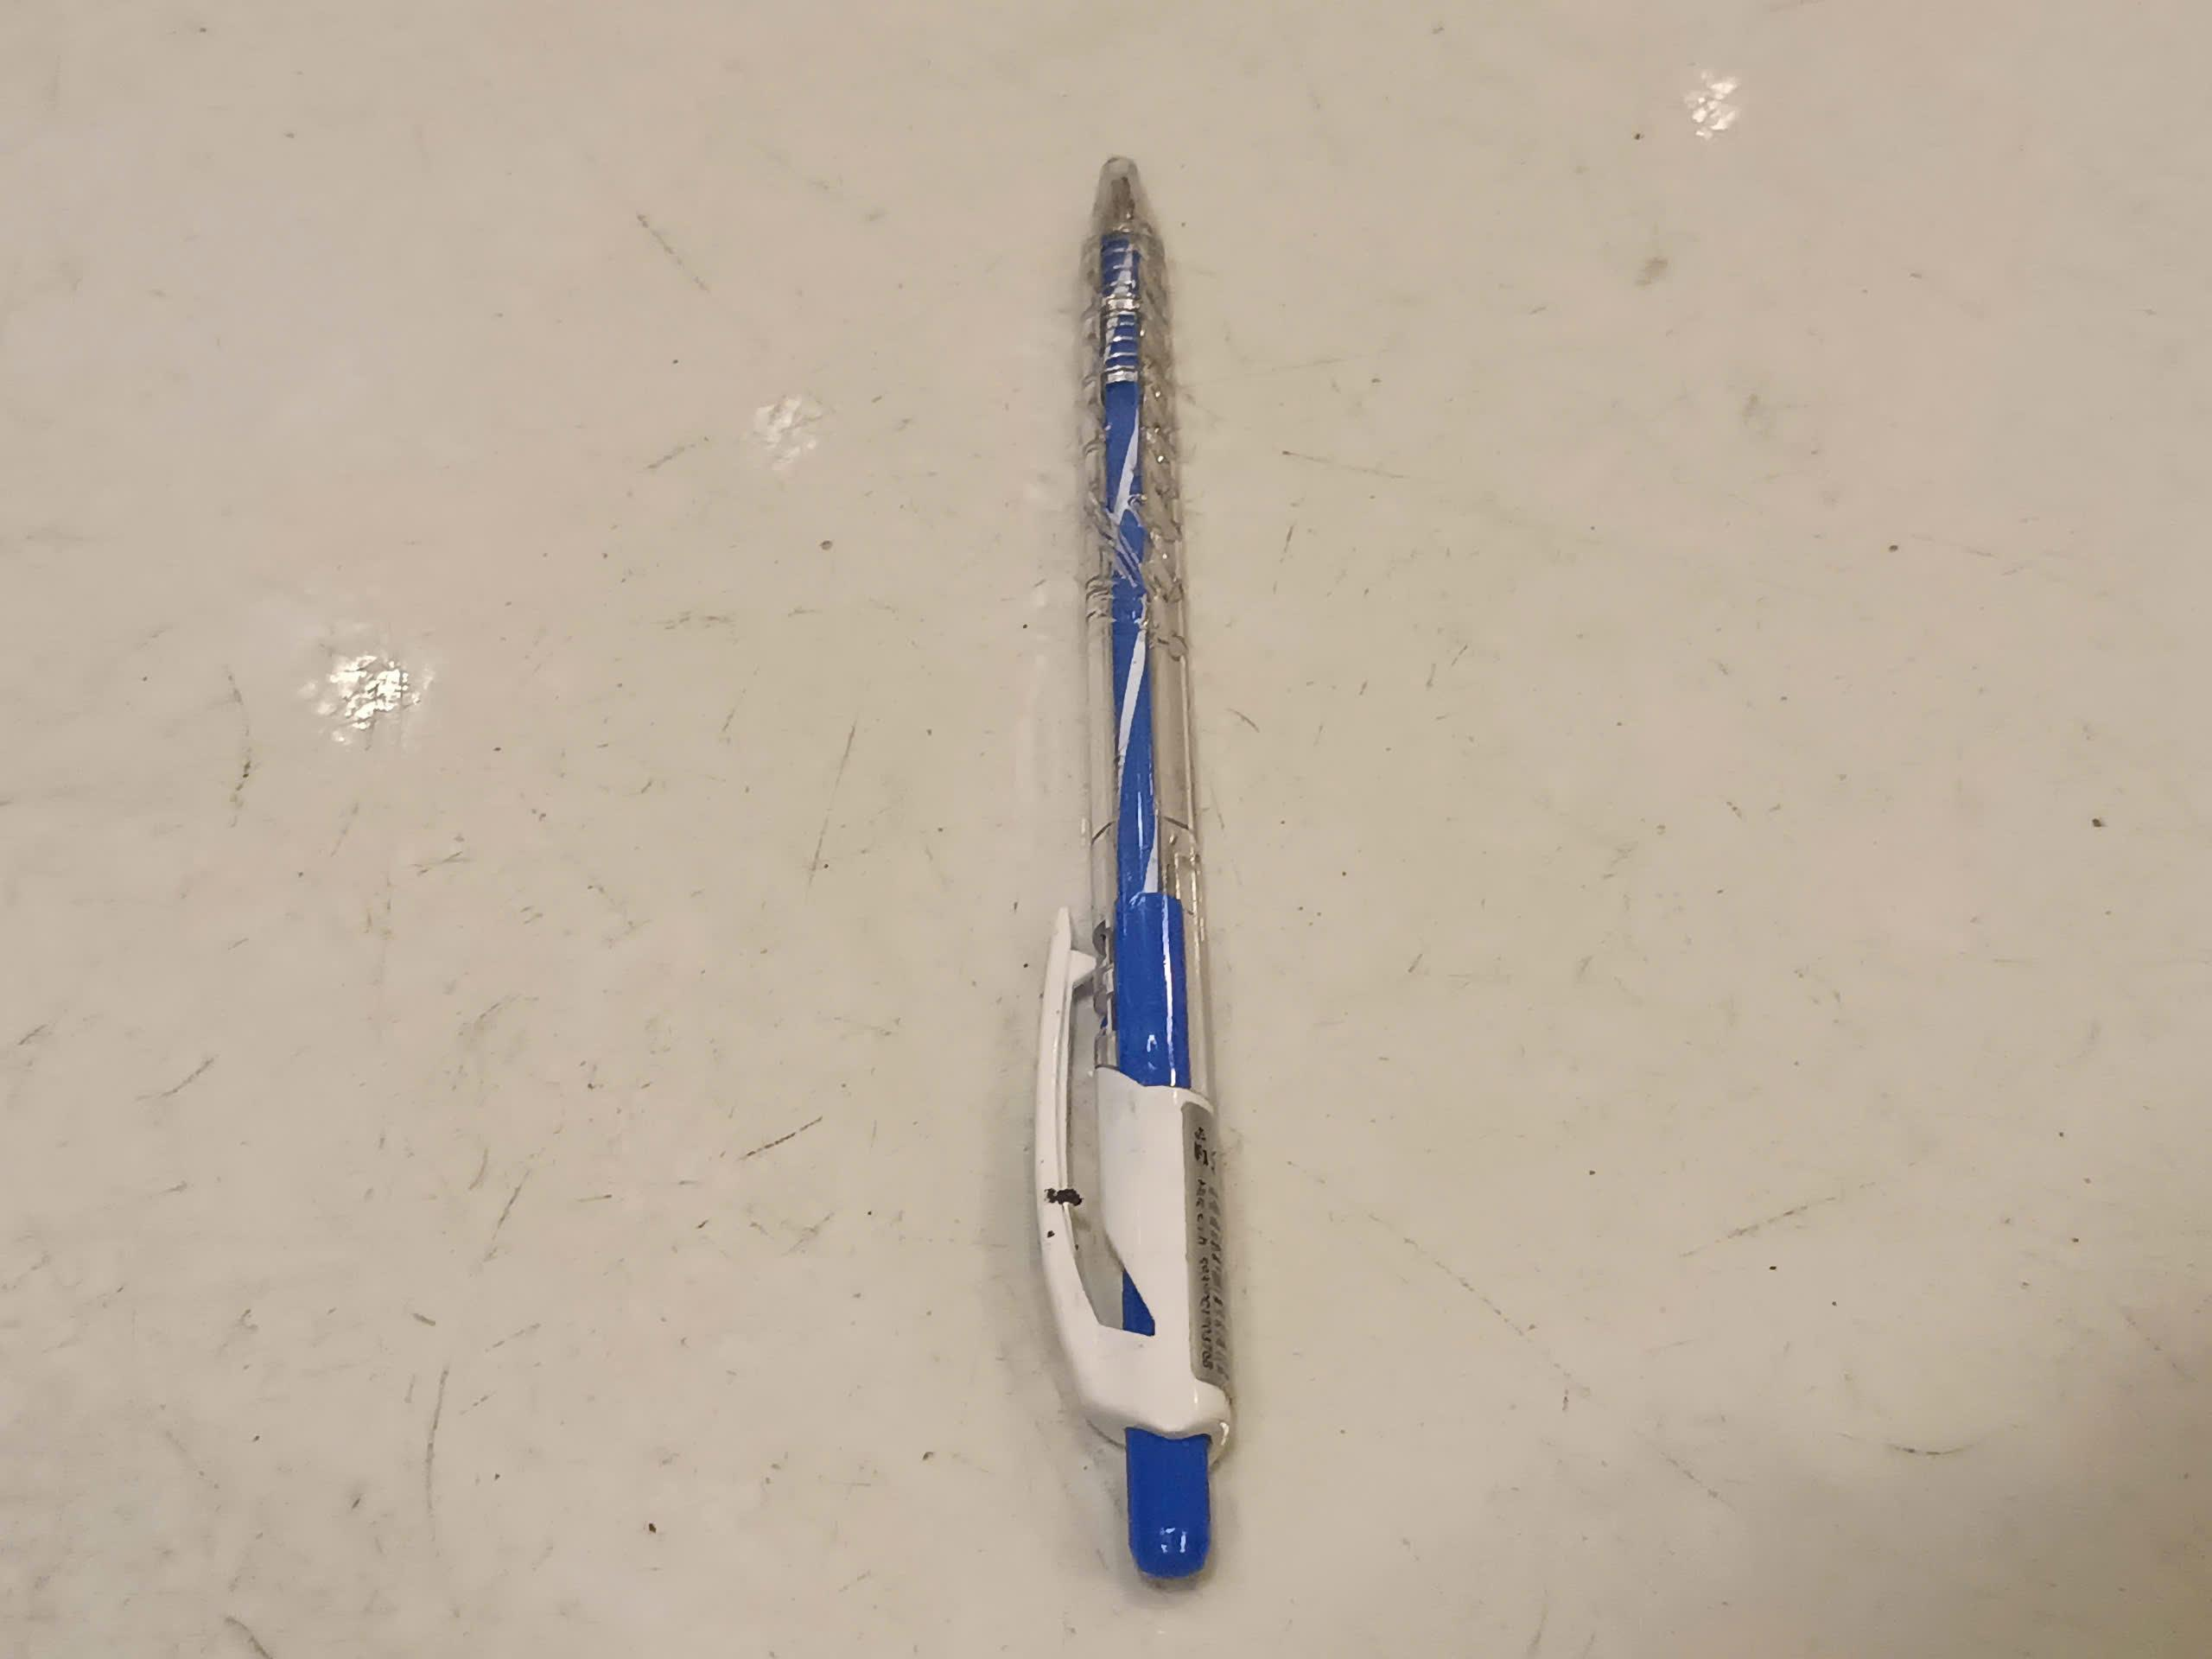Con lai: (1035, 148, 1228, 1584)
